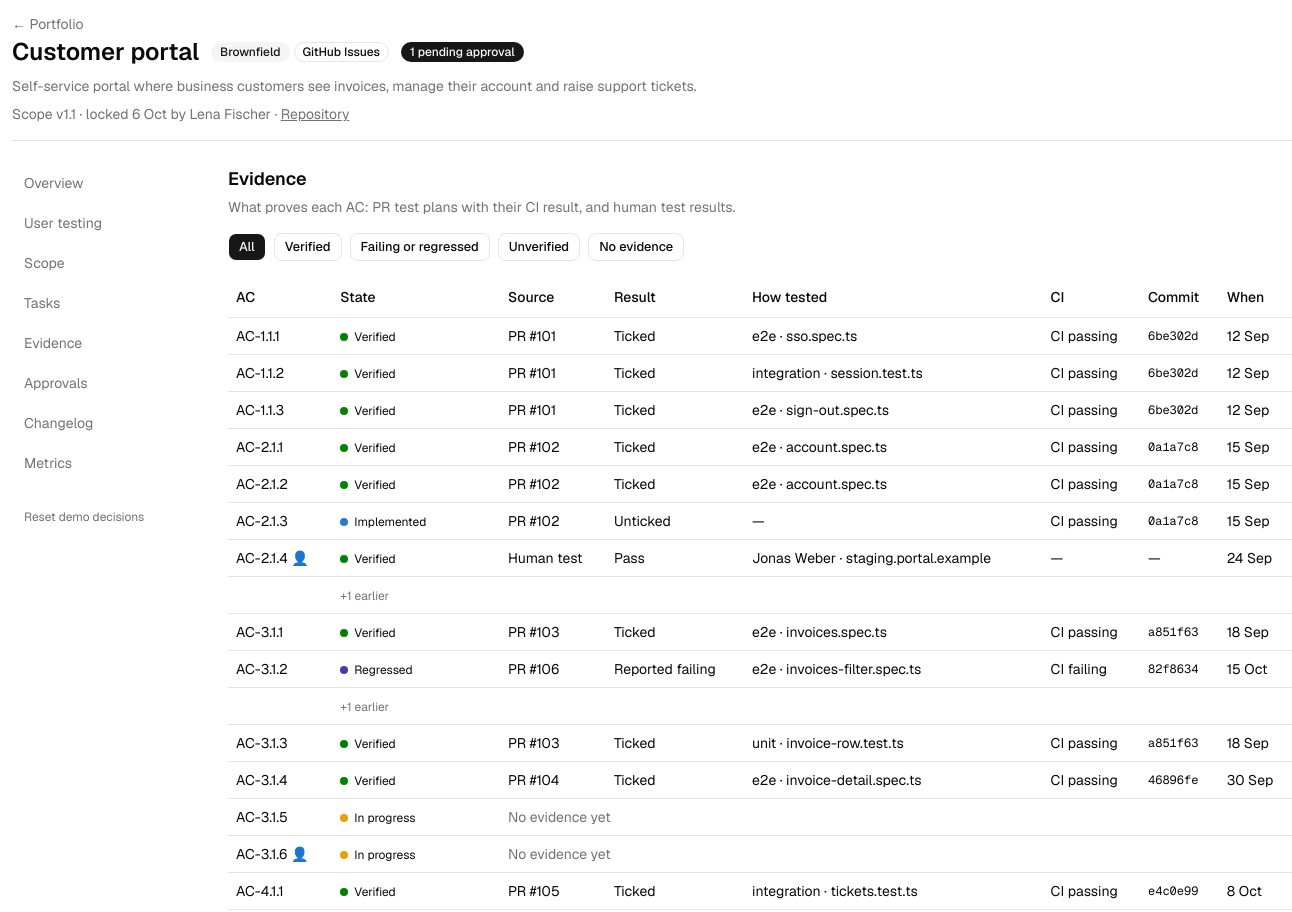
it: EvidenceView › shows PR #103 as the earlier evidence of AC-3.1.2
The image size is (1292, 912).
Click the 2nd button "+1 earlier" at (365, 706), box [340,698,389,714]
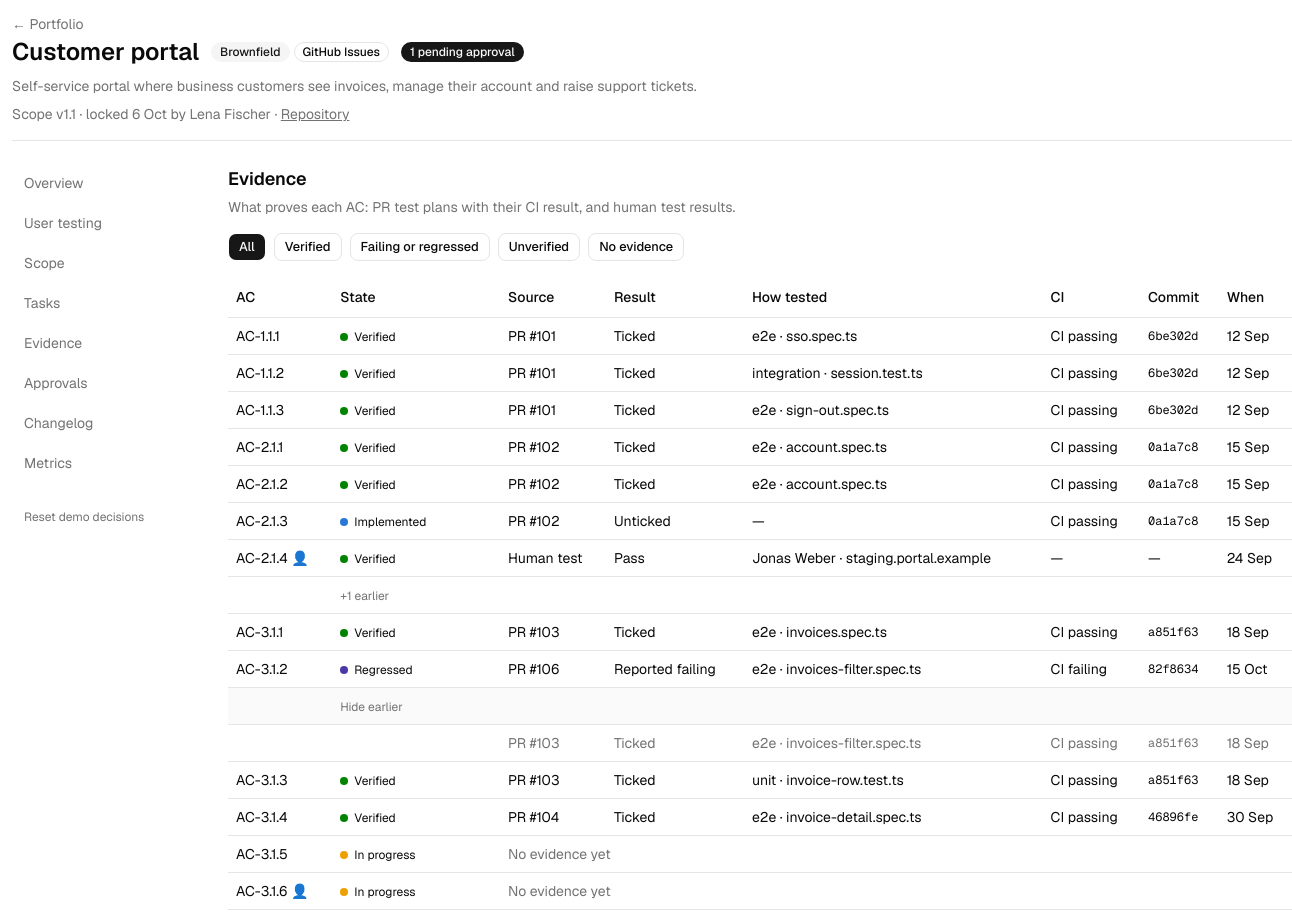
Result: the 2nd text "PR #103" is shown at [500,724,606,761]
